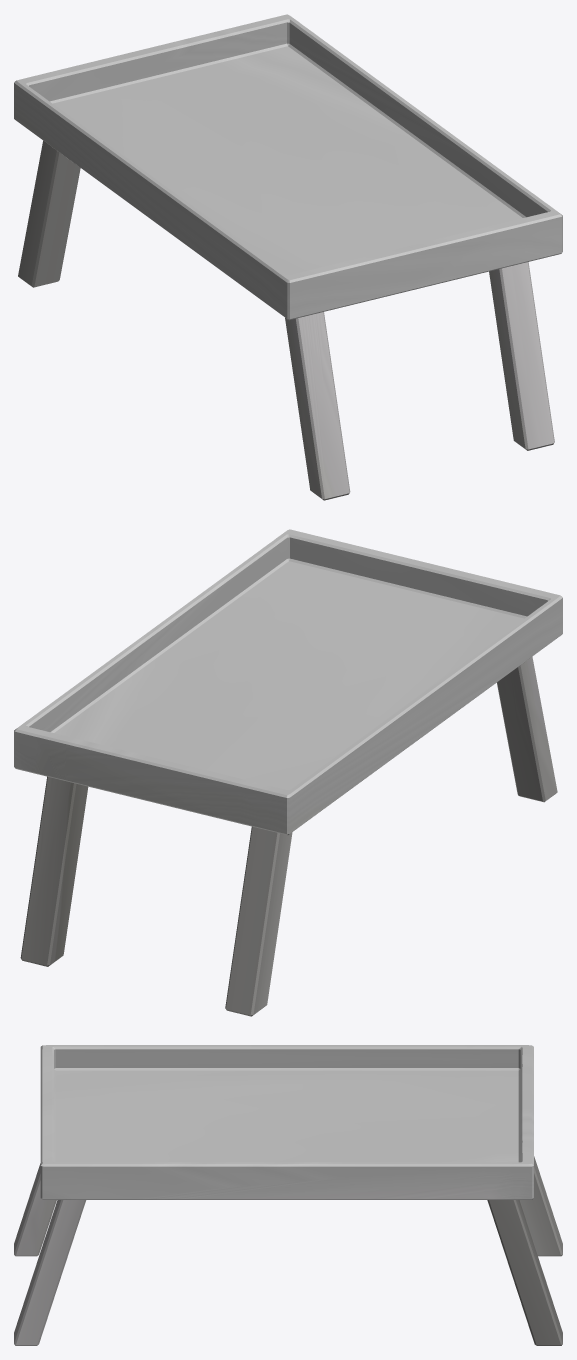
File: tablette_sur_pilotie_1.fbx
The picture shows the model from 3 angles, top to bottom: view 1: azimuth 30°, elevation 25°; view 2: azimuth 150°, elevation 25°; view 3: azimuth 270°, elevation 25°; orthographic projection. The views are drawn at different scales.
Visible parts, largest first — view 1: tablette:tablette; view 2: tablette:tablette; view 3: tablette:tablette.
Boxes of the visible parts, left/top/right/bottom form: tablette:tablette: left=14, top=14, right=562, bottom=500; tablette:tablette: left=14, top=529, right=562, bottom=1016; tablette:tablette: left=14, top=1045, right=562, bottom=1345.
Bounding box in the file's own units: 48.54 × 36 × 93.39.
